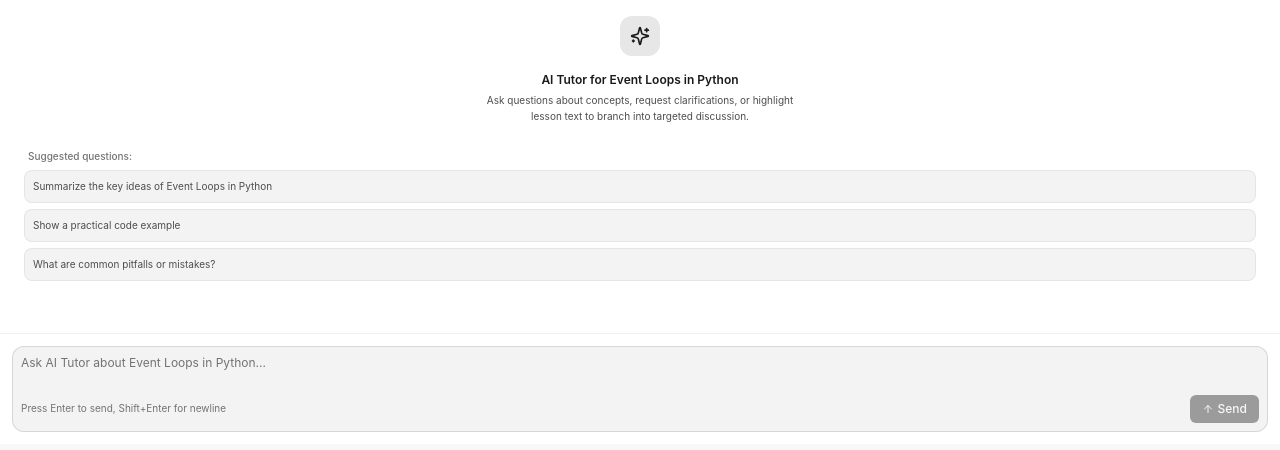
Test case: StudioTutorChat — SSE Stream & Local Context Lifecycle (LSI-014) › renders welcoming empty state with suggested prompts and populates composer on click
Expected: the heading "AI Tutor for Event Loops in Python" is shown, [541, 72, 739, 87]
Expected: the button "Summarize the key ideas of Event Loops in Python" is shown, [24, 170, 1256, 202]
Click the button "Show a practical code example" at (107, 224), box [24, 208, 1256, 242]
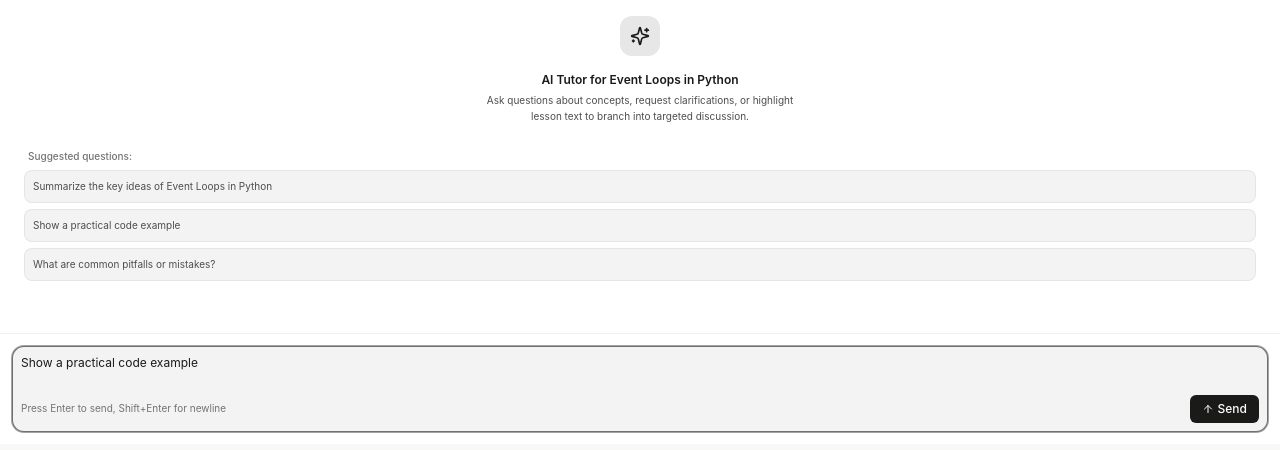
Expected: the text box with test id "tutor-chat-input" holds "Show a practical code example", [21, 354, 1259, 386]
